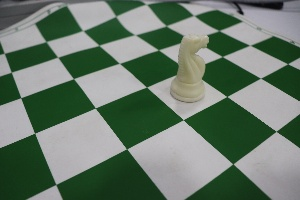white_horse: (169, 20, 216, 113)
